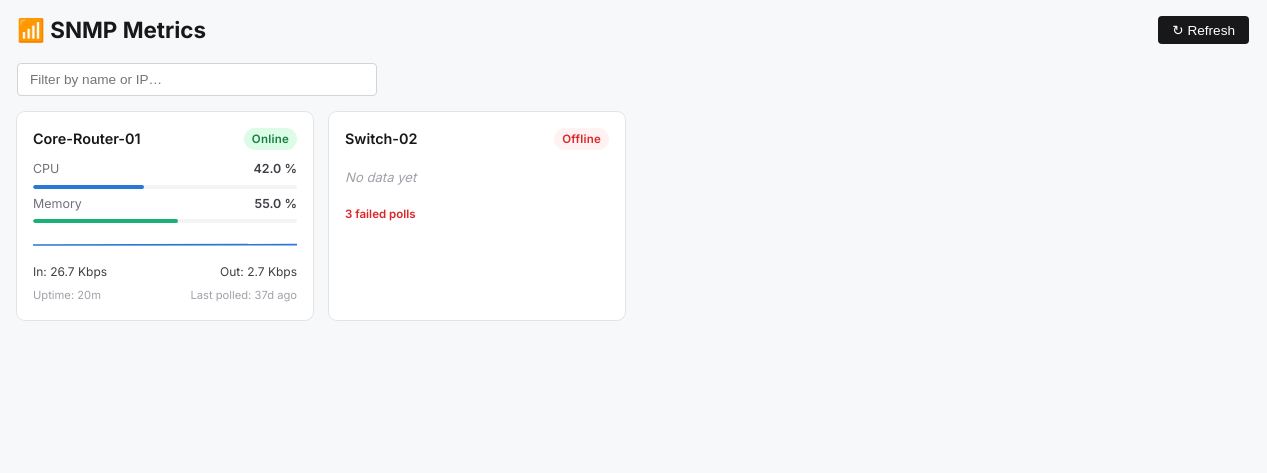
Test: SnmpMetrics — fleet glance (level 1) › clicking a card drills into the device history level (sets ?device_id=)
Expected: the text "Core-Router-01" is shown, x1=33 y1=128 x2=141 y2=150
Click the link with aria-label "View metric history for Core-Router-01": (165, 216) x1=17 y1=112 x2=313 y2=320
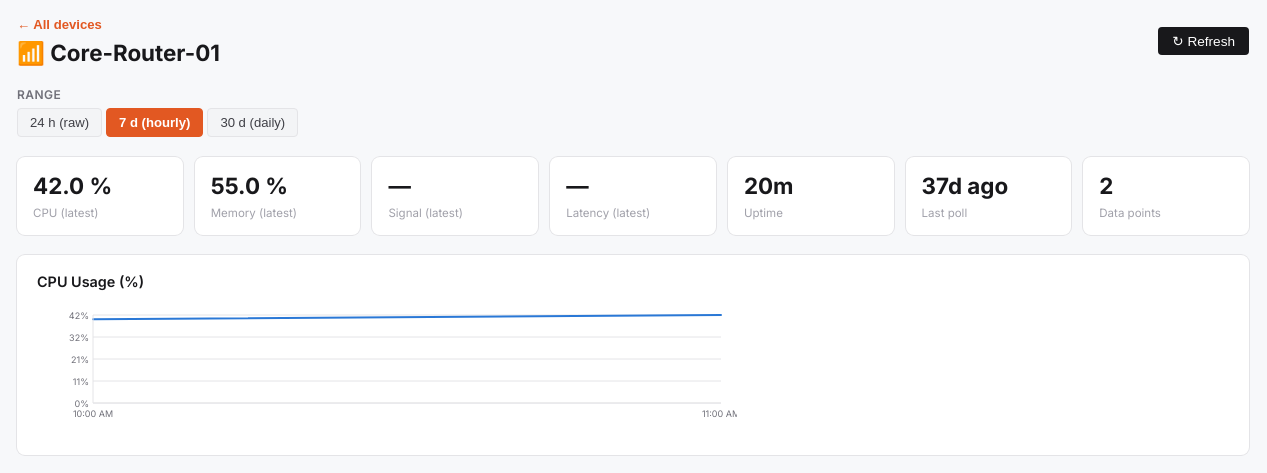
Expected: the heading "📶 Core-Router-01" is shown, x1=17 y1=36 x2=220 y2=70
Expected: the button "← All devices" is shown, x1=17 y1=17 x2=102 y2=32
Expected: the link "Switch-02" is gone
